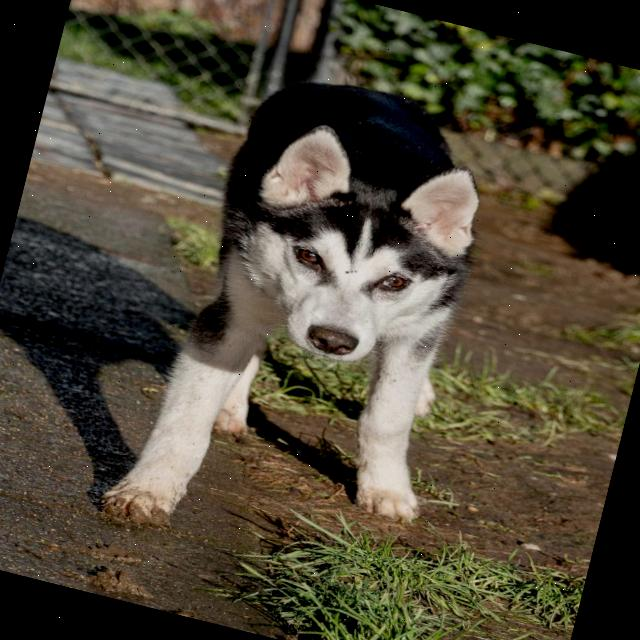siberian_husky_dog: (202, 108, 506, 396)
